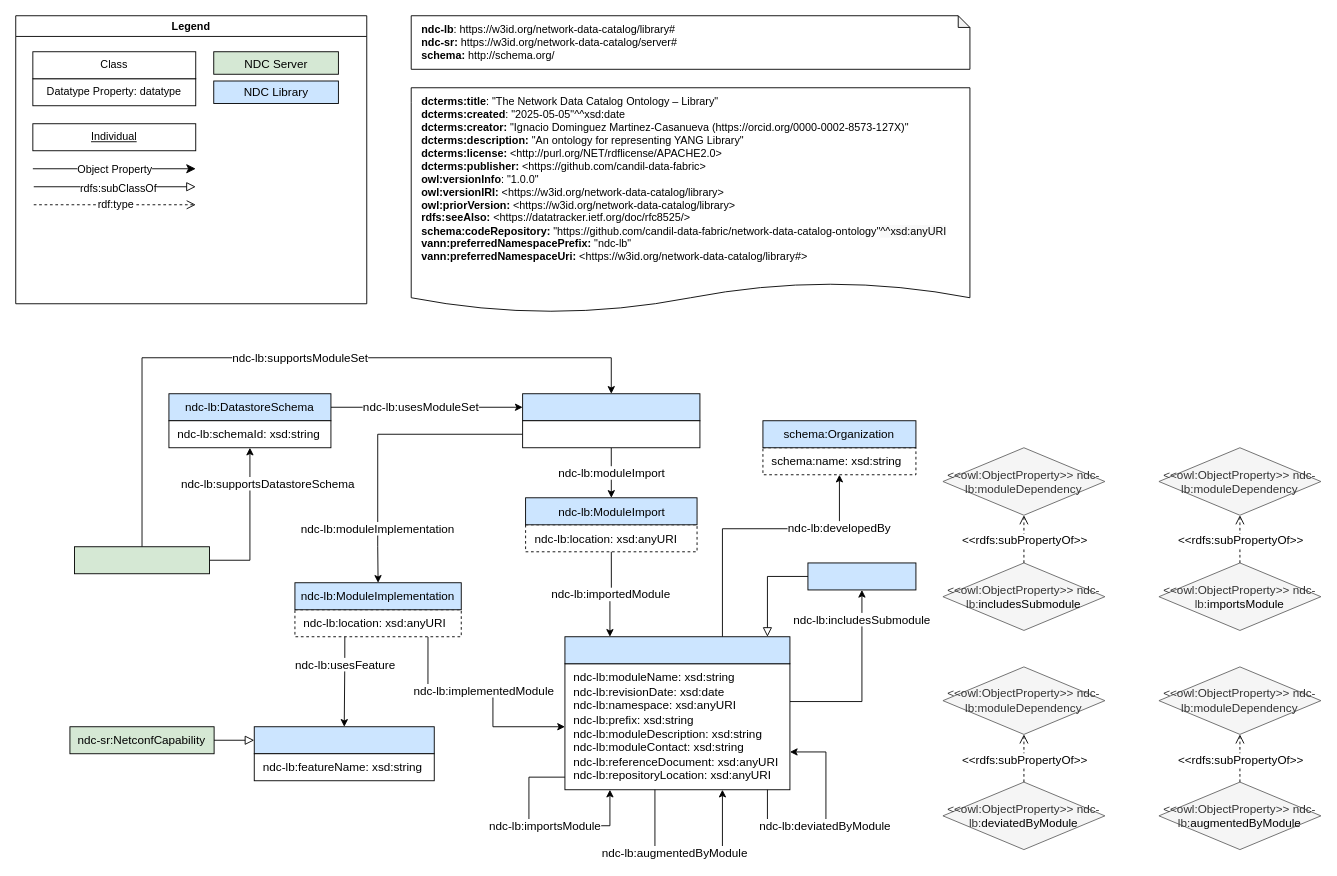
The diagram is 1337 pixels wide and 876 high, and some of its shapes have lost their labels. Here are the shapes that lost their labels. From the top down, the centre of each, then its label:
point (611, 407): ndc-lb:ModuleSet
point (611, 434): ndc-lb:moduleSetId: xsd:string
point (142, 560): ndc-sr:YangDatastore
point (861, 576): ndc-lb:Submodule
point (677, 650): ndc-lb:Module
point (343, 740): ndc-lb:Feature
